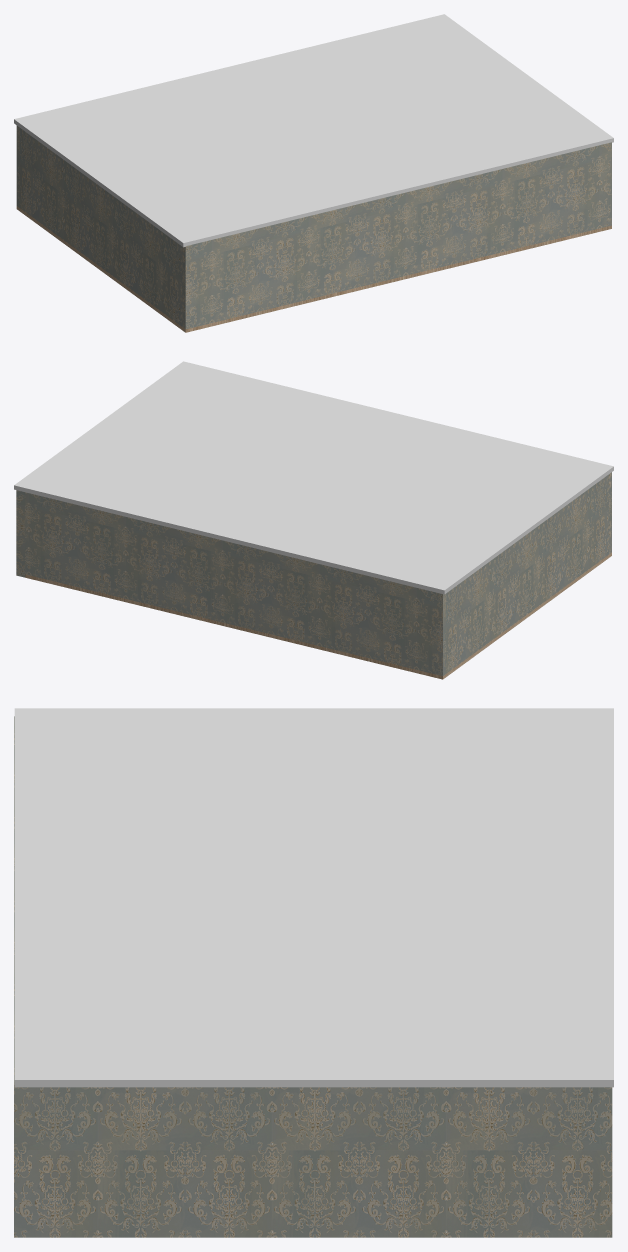
The model's file is galleryInGreenTexture.glb.
3 views of the same model, one above another, from view 1: azimuth 30°, elevation 25°; view 2: azimuth 150°, elevation 25°; view 3: azimuth 270°, elevation 25° (orthographic). The views are drawn at different scales.
Visible parts, largest first — view 1: ceiling, walls; view 2: ceiling, walls; view 3: ceiling, walls.
Boxes of the visible parts, x1,y1,x2,y2 form: ceiling: [14, 14, 613, 247]; walls: [16, 125, 611, 332]; ceiling: [14, 361, 613, 594]; walls: [16, 472, 611, 679]; ceiling: [14, 708, 613, 1087]; walls: [14, 716, 612, 1237].
Size of the model in its own units: 29.39 by 5.87 by 20.05.
4 materials, 3 textured.
